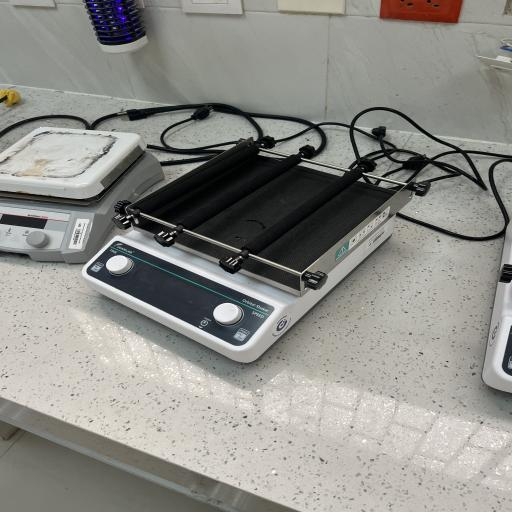Agitador_Orbital_DLAB: (74, 134, 434, 380)
